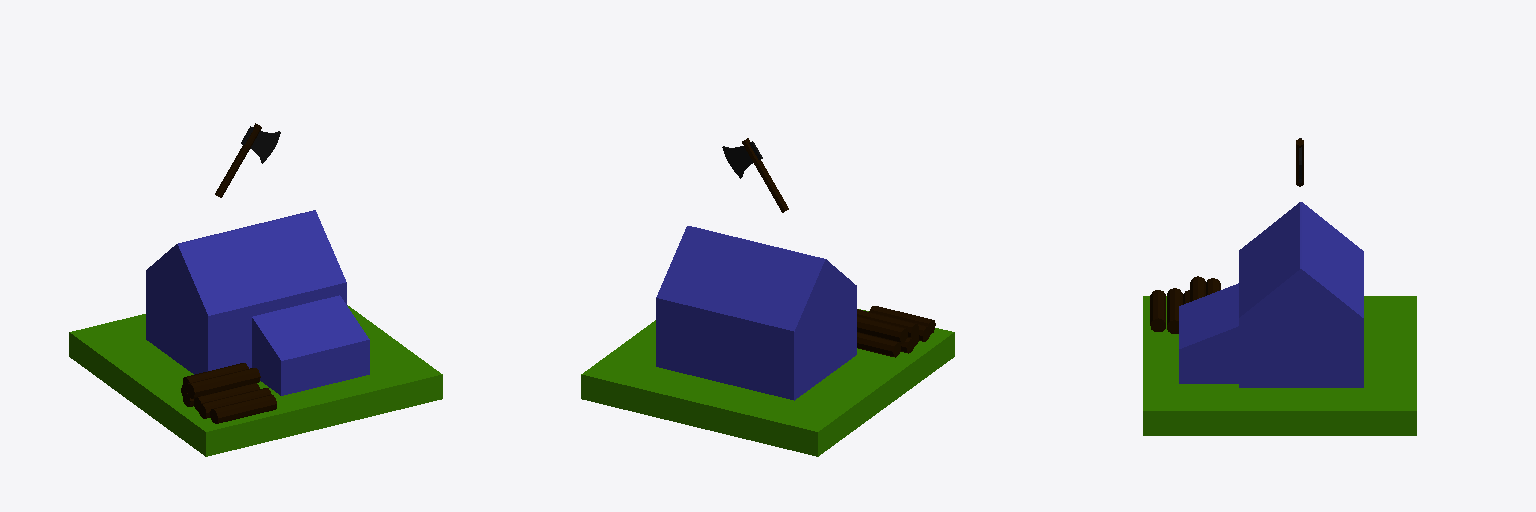
File: Woodworker2.obj
3 views of the same model, side by side, from view 1: azimuth 30°, elevation 25°; view 2: azimuth 150°, elevation 25°; view 3: azimuth 270°, elevation 25° (orthographic).
Parts seen in each view (by area): view 1: Box691, Tilebase105, Cylinder025, Cylinder024, Cylinder017, Box692, Cylinder028; view 2: Box691, Tilebase105, Cylinder019, Cylinder020, Box692, Cylinder028, Cylinder025, Cylinder024; view 3: Box691, Tilebase105, Cylinder024, Cylinder017.
Part boxes in pixels (x1,y1,x2,y2): Box691: (146,210,369,395); Tilebase105: (69,305,442,456); Cylinder025: (187,368,260,398); Cylinder024: (210,395,276,423); Cylinder017: (198,388,271,418); Box692: (241,126,280,163); Cylinder028: (215,123,261,197); Box691: (656,226,856,400); Tilebase105: (581,309,954,456); Cylinder019: (857,316,907,343); Cylinder020: (857,332,900,357); Box692: (722,141,762,178); Cylinder028: (742,138,788,212); Cylinder025: (857,309,918,338); Cylinder024: (869,306,935,334); Box691: (1179,202,1363,387); Tilebase105: (1143,296,1416,435); Cylinder024: (1150,290,1165,331); Cylinder017: (1167,288,1182,333).
Bounding box in the file's own units: 10 × 9.86 × 10.